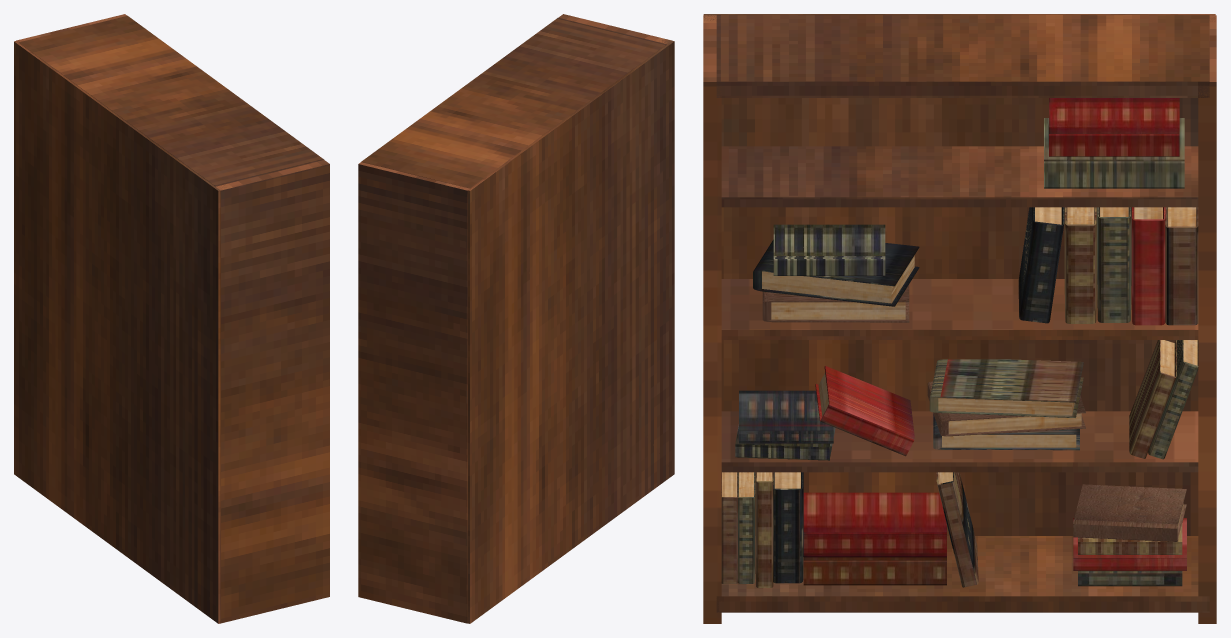
Rendered from bookcase.fbx.
3 views of the same model, side by side, from view 1: azimuth 30°, elevation 25°; view 2: azimuth 150°, elevation 25°; view 3: azimuth 270°, elevation 25° (orthographic). The views are drawn at different scales.
Parts seen in each view (by area): view 1: bookcase; view 2: bookcase; view 3: bookcase, book2.003, book1.011, book2.008, book1.017, book1.006, book1.014, book2.009, book1.016, book1.013, book2.010, book2.002 (+18 smaller).
Boxes of the visible parts, bbox=[...] form: bookcase: bbox=[14, 14, 329, 623]; bookcase: bbox=[358, 14, 674, 623]; bookcase: bbox=[703, 14, 1216, 623]; book2.003: bbox=[803, 492, 946, 557]; book1.011: bbox=[929, 359, 1083, 417]; book2.008: bbox=[1049, 98, 1179, 156]; book1.017: bbox=[773, 224, 885, 275]; book1.006: bbox=[1073, 484, 1186, 541]; book1.014: bbox=[815, 365, 914, 456]; book2.009: bbox=[1044, 118, 1184, 188]; book1.016: bbox=[753, 239, 919, 306]; book1.013: bbox=[739, 390, 833, 443]; book2.010: bbox=[1018, 207, 1064, 323]; book2.002: bbox=[803, 557, 946, 585].
Bounding box in the file's own units: 261 × 972 × 833.
